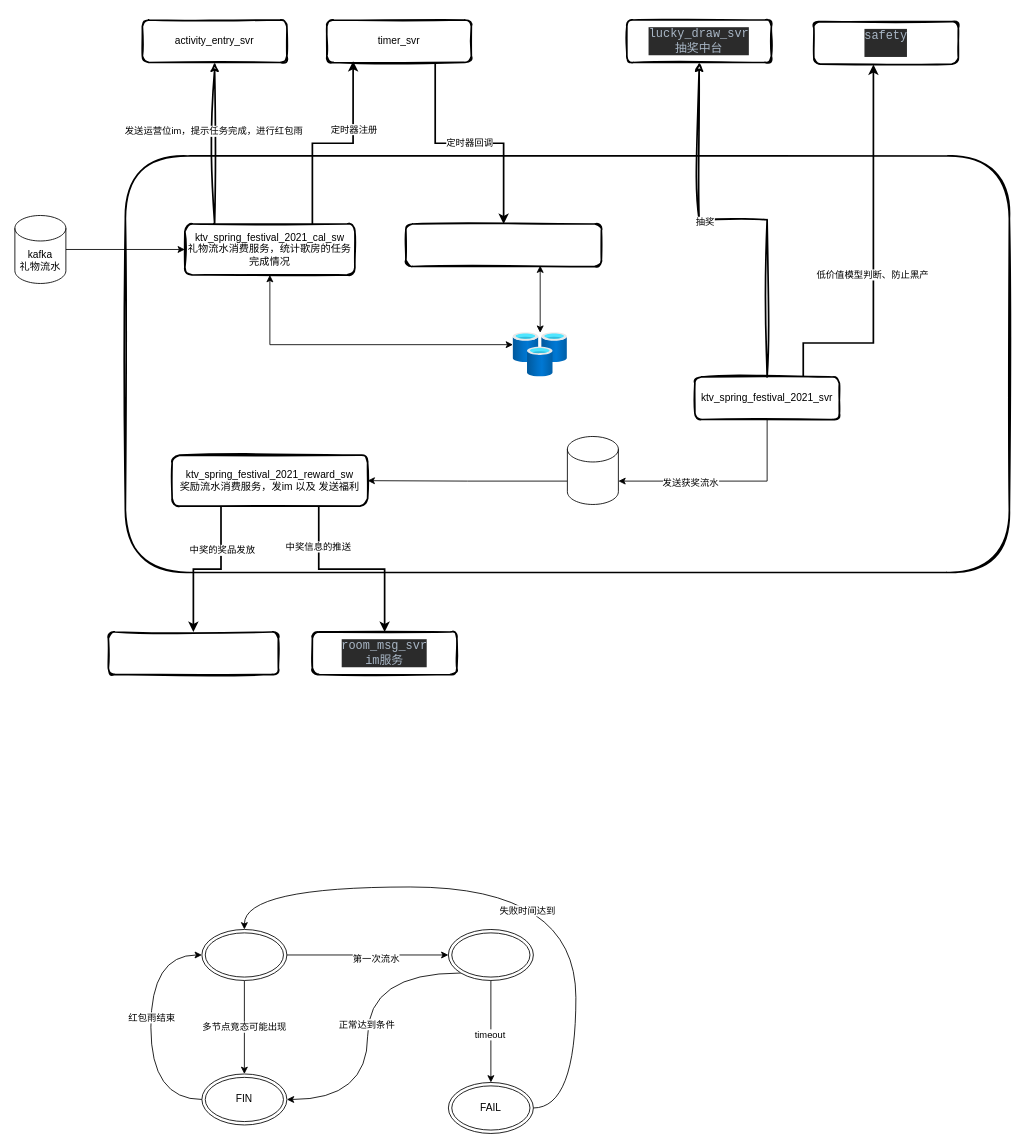
This 1025x1148 diagram has some shape labels left out. The centre of each missing label's shape, as x and y in pixels:
ACTIVE: the point at 490,954
ckv+: the point at 540,354
INIT: the point at 244,954
kafka: the point at 592,470
ktv_spring_festival_2021_timer_sw 检查任务的状态: the point at 503,245
property_sender_svr 福利发放平台: the point at 193,653
